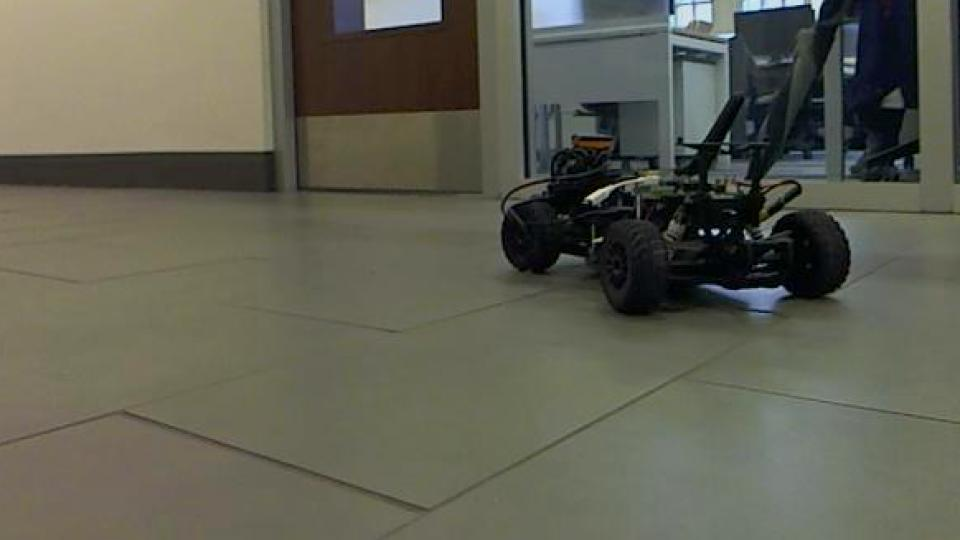car: (496, 3, 858, 318)
